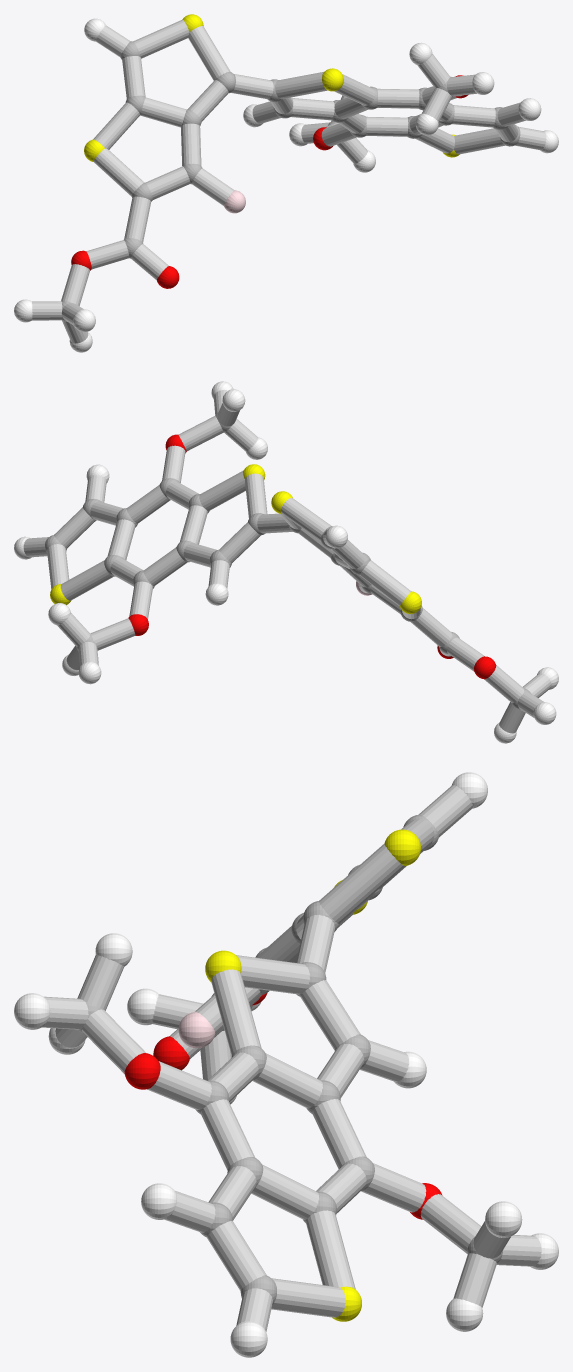
Rendered from color.glb.
3 renders of one model, top to bottom at view 1: azimuth 30°, elevation 25°; view 2: azimuth 150°, elevation 25°; view 3: azimuth 270°, elevation 25°, orthographic. The views are drawn at different scales.
Visible parts, largest first — view 1: grp15205, grp8689, grp1, grp7241, grp13395; view 2: grp15205, grp8689, grp1, grp7241, grp13395; view 3: grp15205, grp8689, grp1, grp7241, grp13395, grp14843.
Part boxes in pixels (x1=…): grp15205: x1=32, y1=19, x2=546, y2=343; grp8689: x1=14, y1=18, x2=558, y2=352; grp1: x1=62, y1=41, x2=520, y2=321; grp7241: x1=84, y1=14, x2=459, y2=161; grp13395: x1=71, y1=75, x2=468, y2=288; grp15205: x1=23, y1=390, x2=551, y2=733; grp8689: x1=14, y1=381, x2=558, y2=743; grp1: x1=45, y1=412, x2=531, y2=709; grp7241: x1=50, y1=464, x2=421, y2=613; grp13395: x1=128, y1=434, x2=496, y2=679; grp15205: x1=42, y1=785, x2=541, y2=1331; grp8689: x1=14, y1=772, x2=558, y2=1357; grp1: x1=77, y1=814, x2=502, y2=1304; grp7241: x1=205, y1=829, x2=420, y2=1321; grp13395: x1=124, y1=993, x2=442, y2=1219; grp14843: x1=178, y1=1011, x2=215, y2=1048.
Size of the model in its own units: 16.27 by 7.35 by 8.8.
